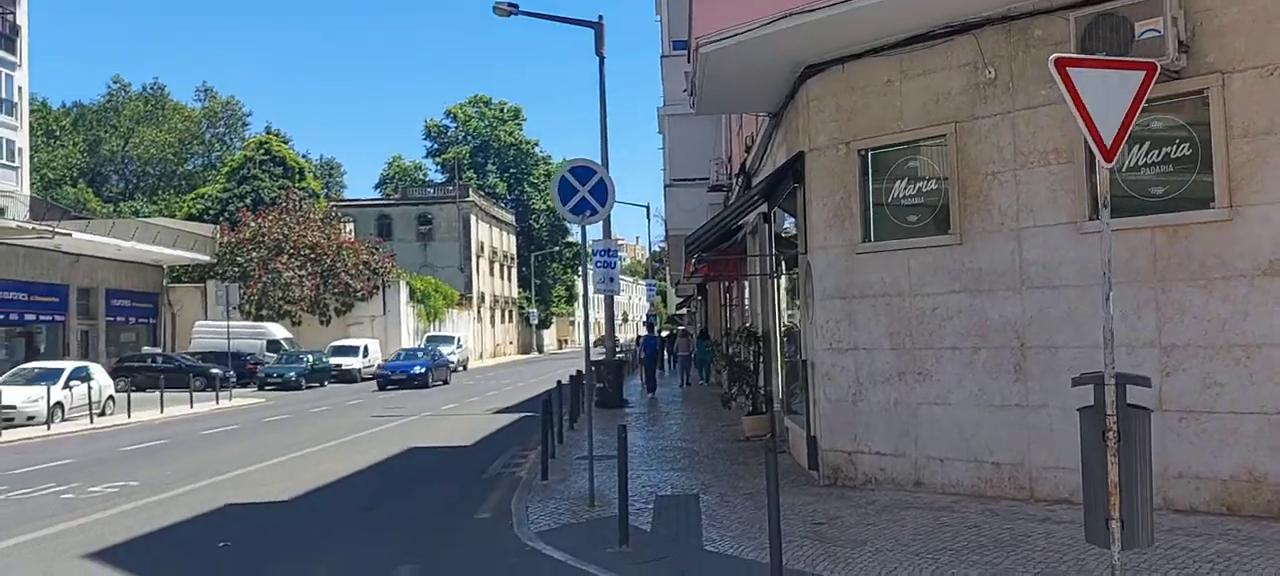cedencia de passagem: (1045, 6, 1203, 182)
paragem e estacionamento proibido: (550, 151, 618, 230)
